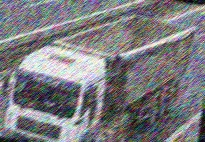truck: (0, 0, 194, 142)
